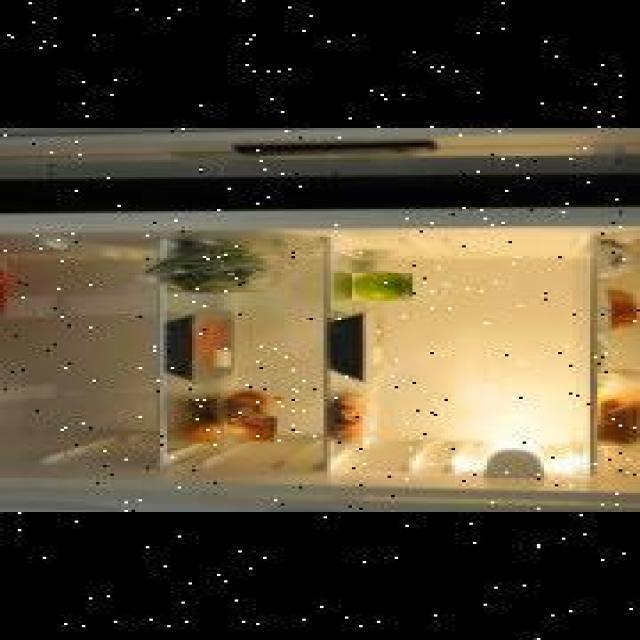apple: (348, 273, 409, 301)
bread: (594, 373, 636, 446)
butter: (0, 260, 53, 317)
cheese: (0, 363, 28, 414)
egg: (602, 298, 628, 320)
onion: (220, 418, 274, 444), (174, 422, 231, 446), (220, 398, 256, 424)
